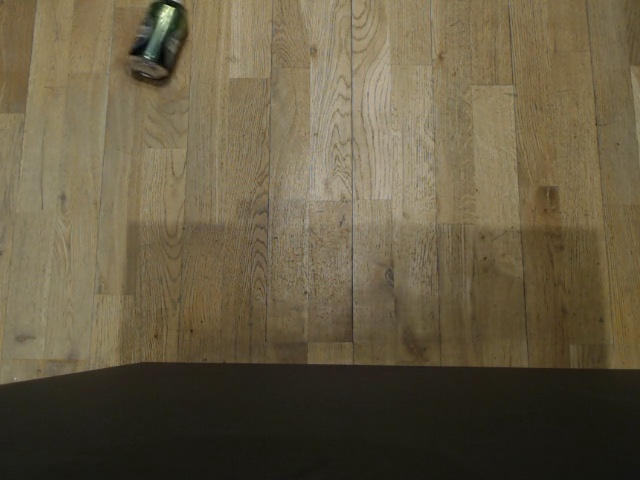beer: (126, 0, 188, 81)
